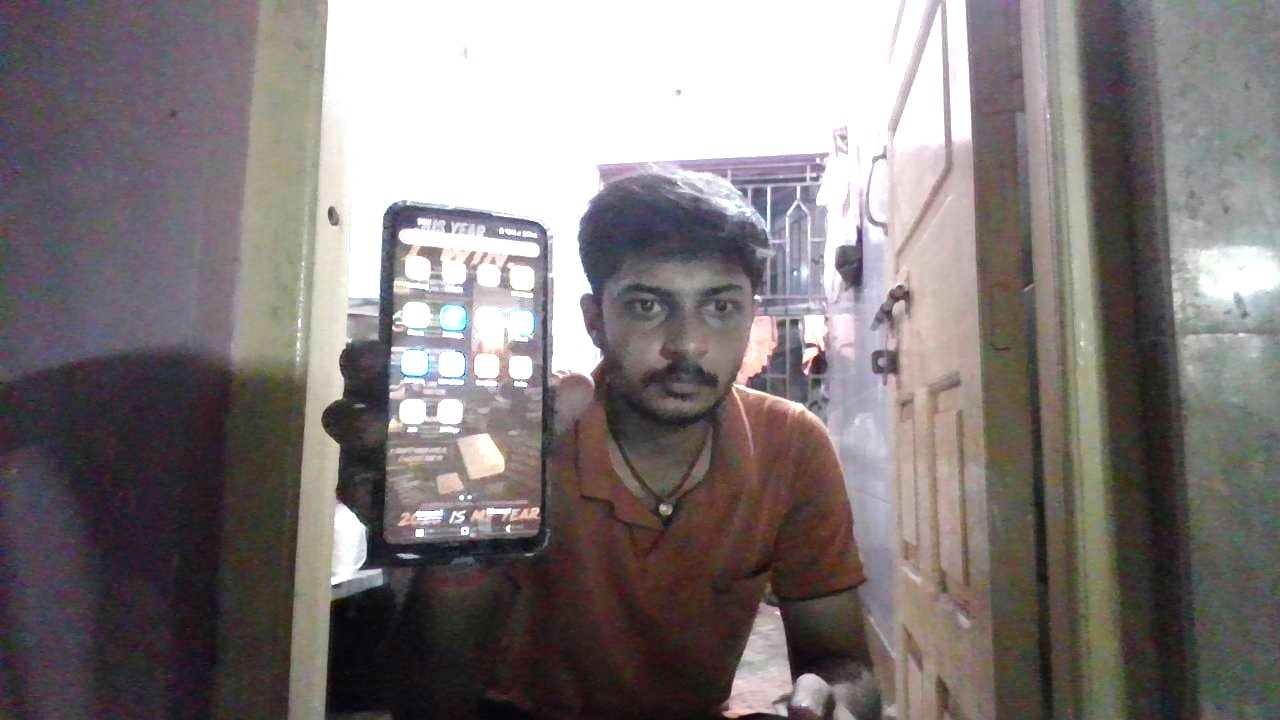red_box: (688, 405, 839, 549), (560, 422, 648, 522), (820, 484, 864, 585)
